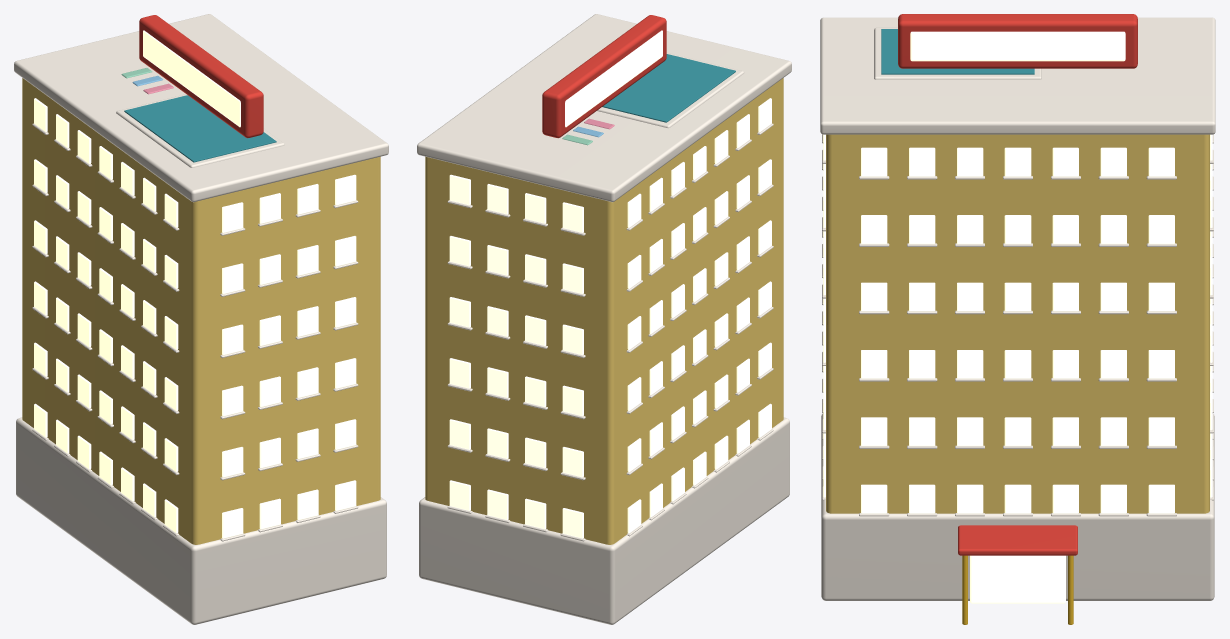
The model's file is hotel.glb.
The picture shows the model from 3 angles, left to right: view 1: azimuth 30°, elevation 25°; view 2: azimuth 150°, elevation 25°; view 3: azimuth 270°, elevation 25°; orthographic projection. The views are drawn at different scales.
Parts seen in each view (by area): view 1: hotel; view 2: hotel; view 3: hotel.
Boxes of the visible parts, x1,y1,x2,y2 form: hotel: (14,14,388,624); hotel: (417,14,791,624); hotel: (820,14,1215,624).
Size of the model in its own units: 12.85 by 24.5 by 16.5.
Materials: 1 (1 with a texture image).
